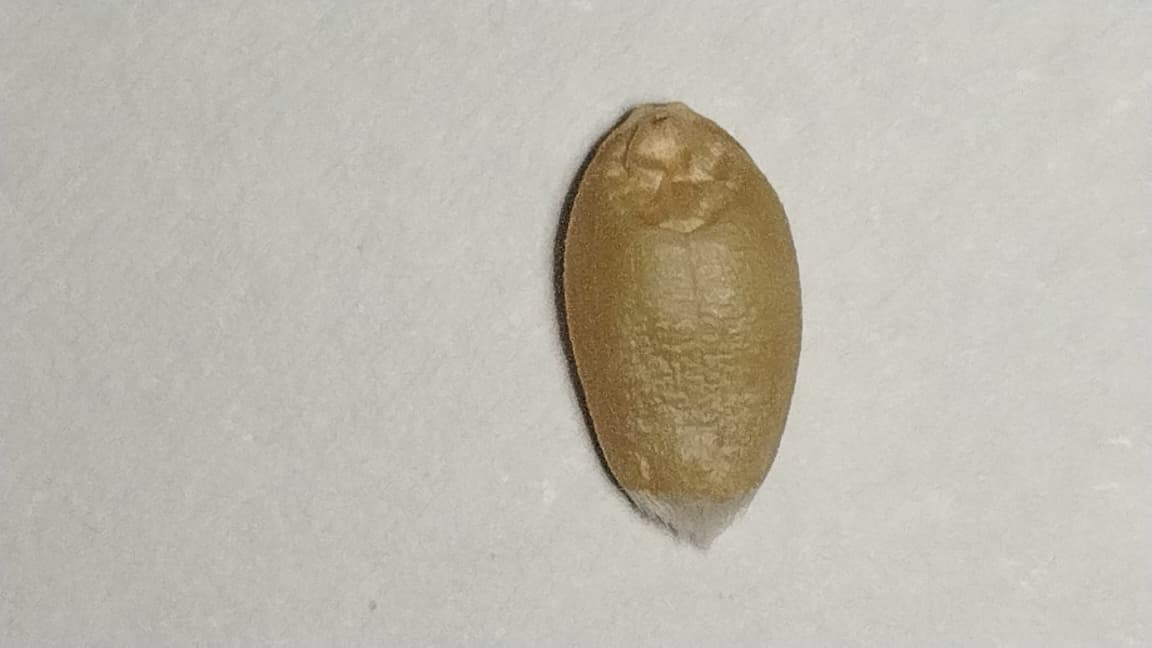healthy: (560, 103, 800, 500)
